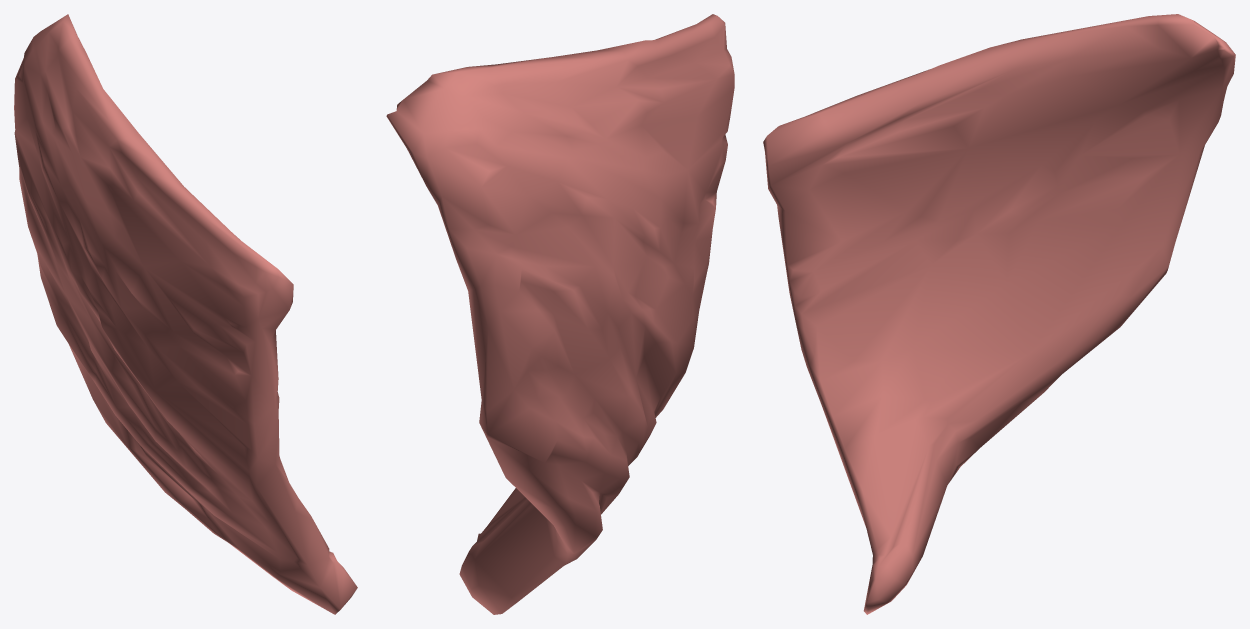
The picture shows the model from 3 angles, left to right: view 1: azimuth 30°, elevation 25°; view 2: azimuth 150°, elevation 25°; view 3: azimuth 270°, elevation 25°; orthographic projection. The views are drawn at different scales.
Visible parts, largest first — view 1: ZA_ac2287df247e9893; view 2: ZA_ac2287df247e9893; view 3: ZA_ac2287df247e9893.
Part boxes in pixels (bbox=[...]): ZA_ac2287df247e9893: bbox=[14, 14, 357, 614]; ZA_ac2287df247e9893: bbox=[386, 14, 734, 614]; ZA_ac2287df247e9893: bbox=[763, 14, 1235, 614].
Bounding box in the file's own units: 0.015 × 0.0363 × 0.0289.
